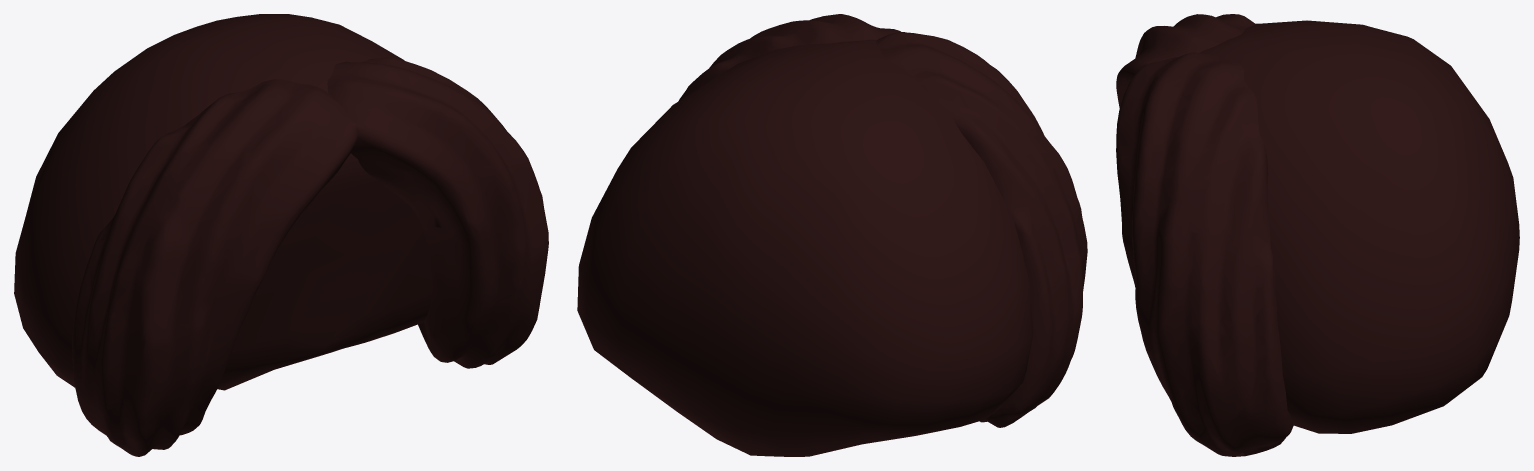
The model's file is hair-8-69717676.glb.
The picture shows the model from 3 angles, left to right: view 1: azimuth 30°, elevation 25°; view 2: azimuth 150°, elevation 25°; view 3: azimuth 270°, elevation 25°; orthographic projection. The views are drawn at different scales.
Parts seen in each view (by area): view 1: hair_8.001; view 2: hair_8.001; view 3: hair_8.001.
Boxes of the visible parts, <box> form: hair_8.001: <box>14,14,548,456</box>; hair_8.001: <box>577,14,1087,456</box>; hair_8.001: <box>1116,14,1519,456</box>.
Bounding box in the file's own units: 2.66 × 2.1 × 2.14.
